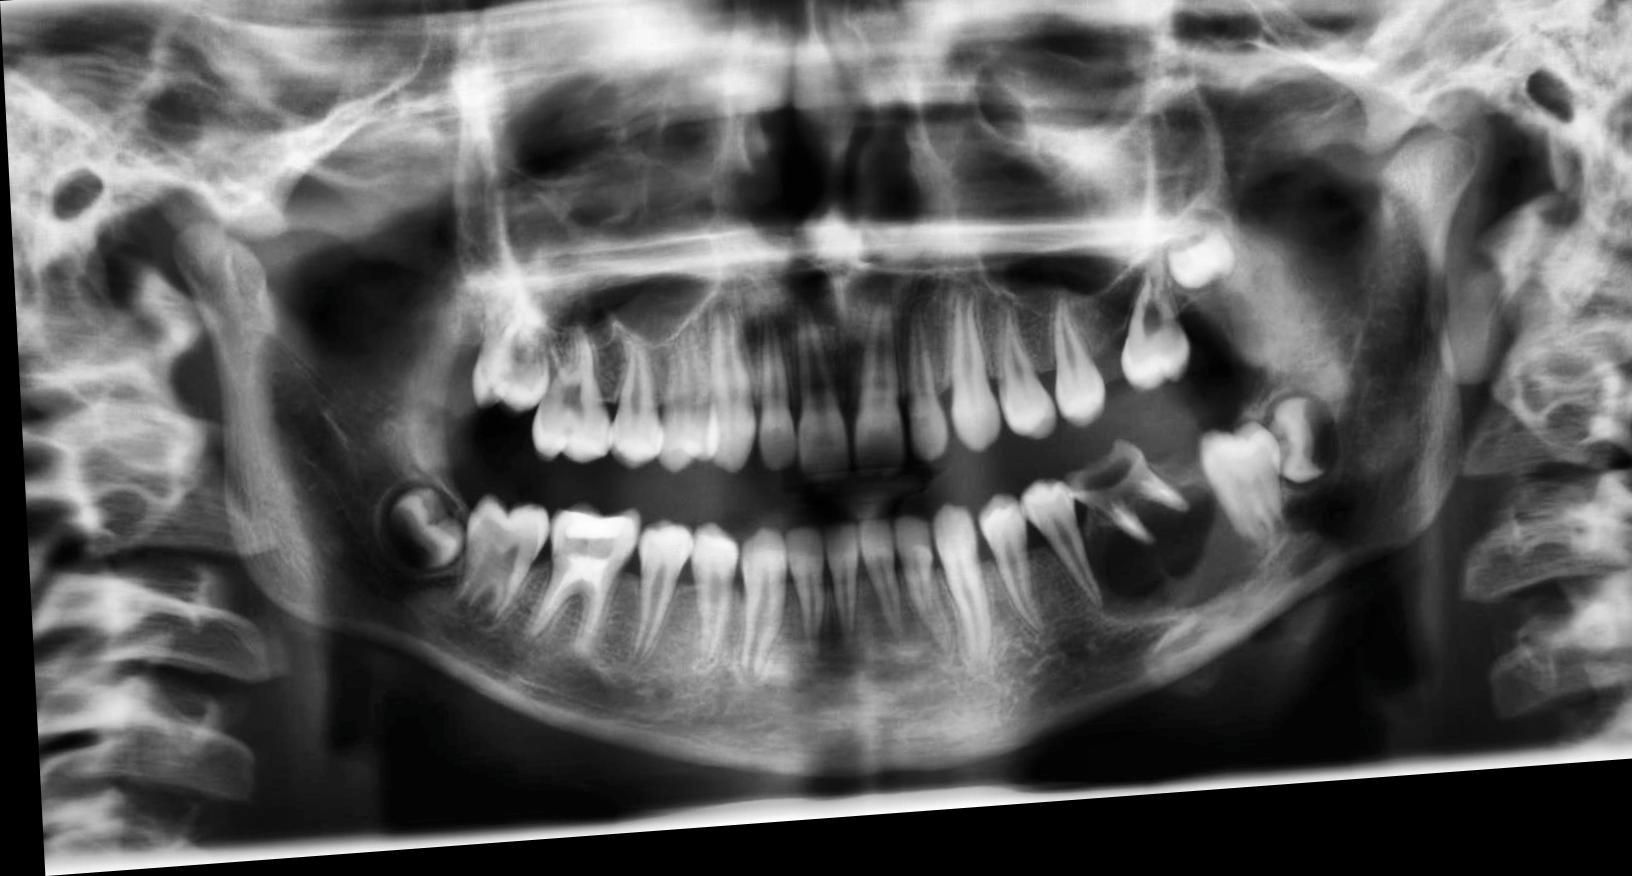radicular: (1067, 494, 1271, 646)
